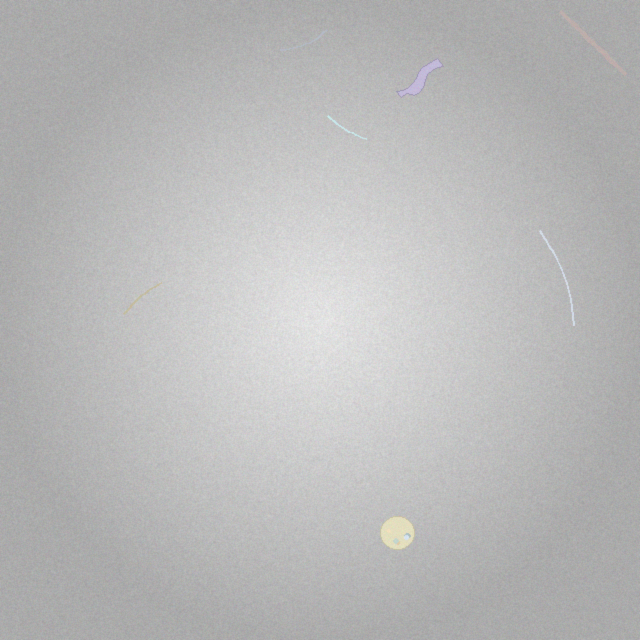fiber: (556, 7, 631, 80), (536, 228, 576, 328), (121, 281, 164, 317), (278, 28, 329, 53), (325, 113, 369, 141)
film: (397, 59, 444, 97)
foam: (380, 516, 414, 550)
